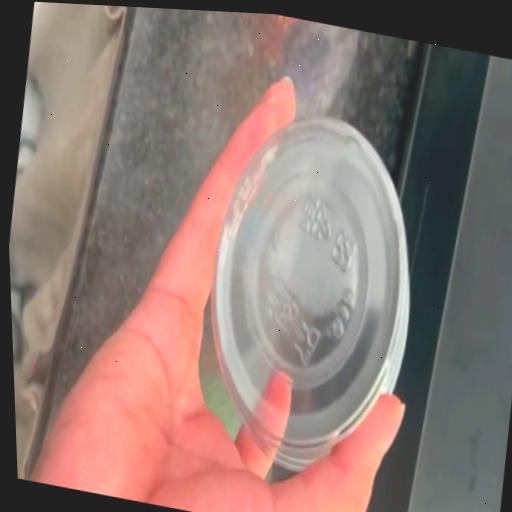ly_nhua: (211, 118, 408, 470)
